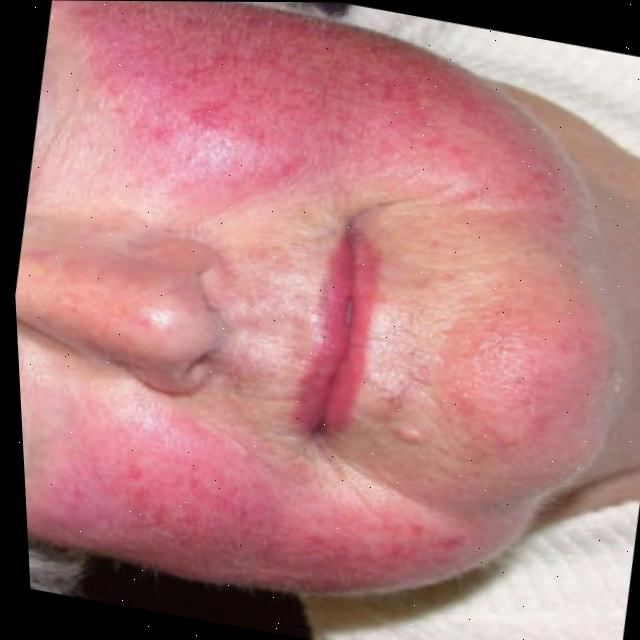Rosacea: (41, 0, 550, 209), (42, 428, 408, 609), (416, 291, 569, 453)
